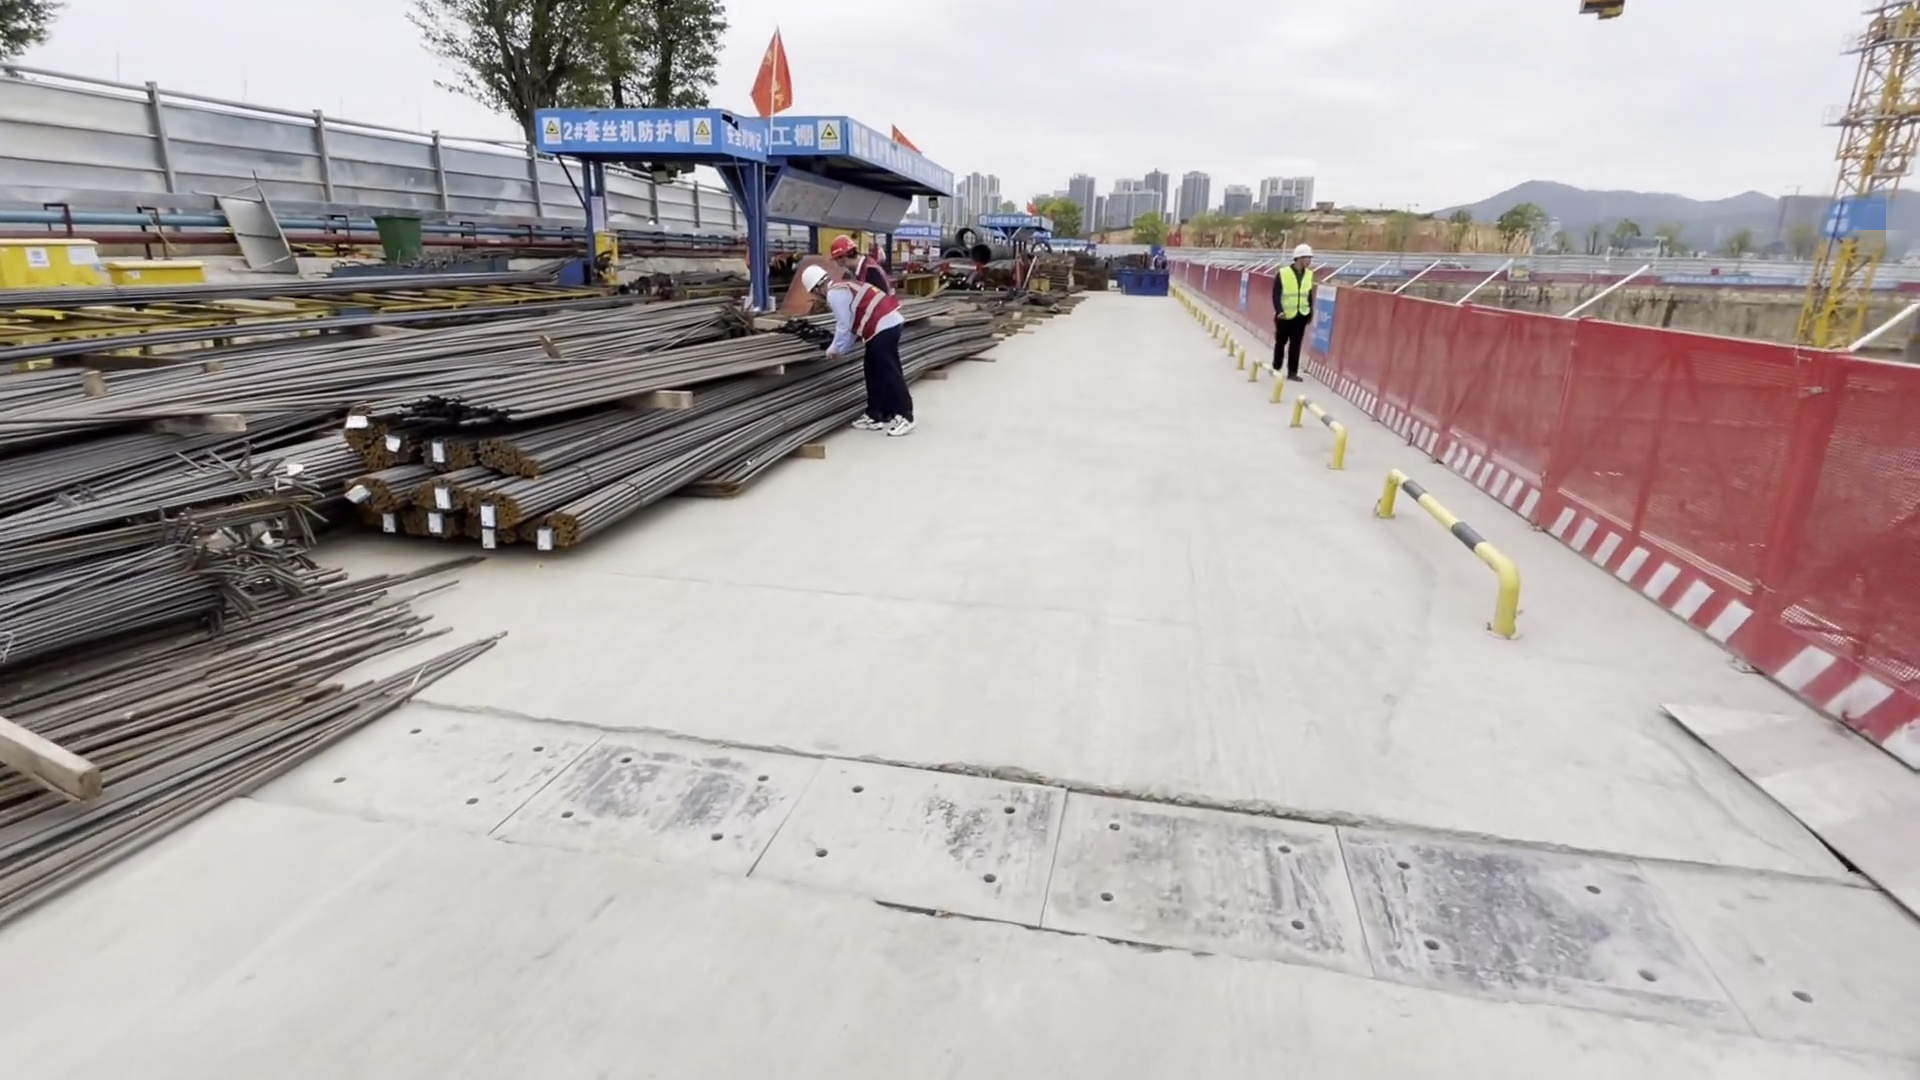ebox: (587, 223, 622, 276)
fence: (1314, 257, 1920, 798), (1172, 250, 1272, 341)
helmet: (798, 264, 825, 291), (827, 233, 856, 255), (1289, 244, 1313, 259)
hopper: (1119, 265, 1167, 295)
person: (801, 267, 911, 445), (832, 239, 896, 428), (1268, 248, 1316, 394)
rebar: (1, 288, 997, 934)
slogan: (692, 115, 769, 151), (537, 116, 565, 150), (814, 118, 839, 147)
vest: (840, 279, 893, 343), (1278, 266, 1310, 324)
